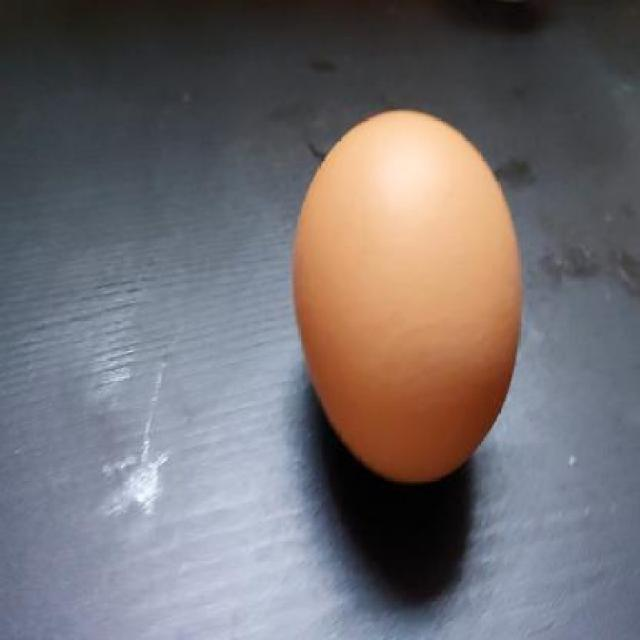biodegradable: (289, 108, 534, 484)
